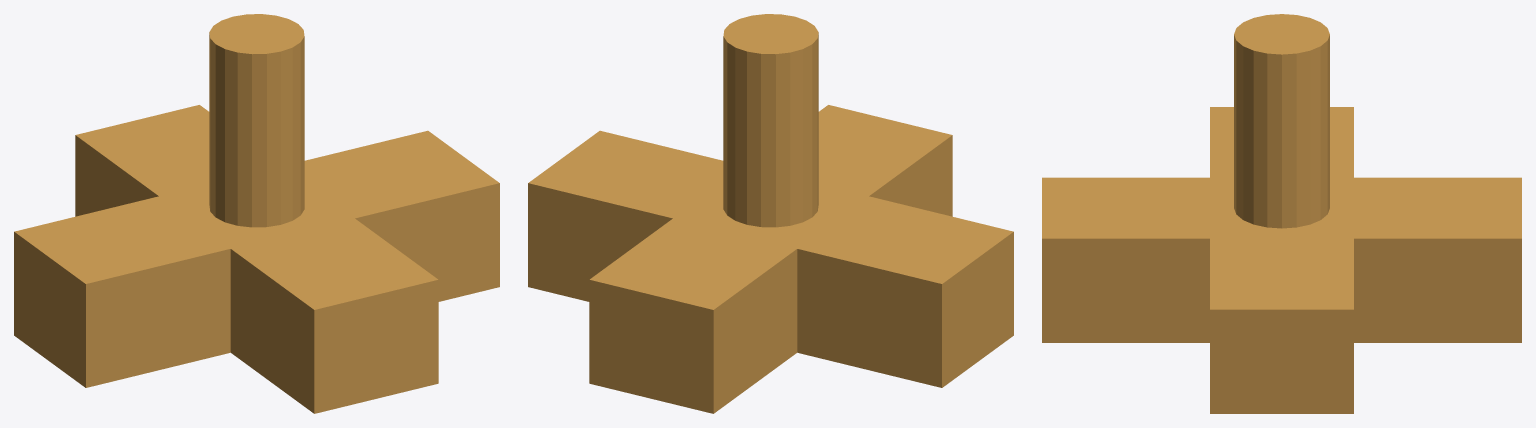
Rendered from french_coat_hanger.glb.
3 renders of one model, left to right at view 1: azimuth 30°, elevation 25°; view 2: azimuth 150°, elevation 25°; view 3: azimuth 270°, elevation 25°, orthographic.
Parts seen in each view (by area): view 1: Mesh_Mesh_head_geo.001_lambert2SG.001; view 2: Mesh_Mesh_head_geo.001_lambert2SG.001; view 3: Mesh_Mesh_head_geo.001_lambert2SG.001.
Boxes of the visible parts, x1,y1,x2,y2 form: Mesh_Mesh_head_geo.001_lambert2SG.001: (14, 14, 499, 413); Mesh_Mesh_head_geo.001_lambert2SG.001: (528, 14, 1013, 413); Mesh_Mesh_head_geo.001_lambert2SG.001: (1042, 14, 1521, 413).
Bounding box in the file's own units: 50 × 32 × 50.
